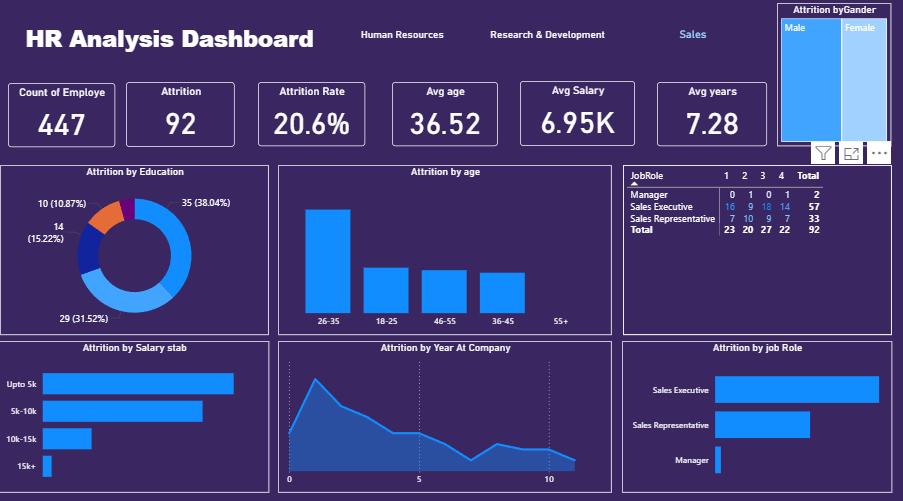

What the dashboard file says about the page in this screenshot:
{"tool":"powerbi","page":{"name":"Page 1","canvas":[1280,720],"ordinal":0},"visuals":[{"type":"card","title":"Count of Employe","fields":{"Values":["CountNonNull(HR_Analytics.EmpID)"]},"box":[12.8,121.9,151.7,90.7],"z":0},{"type":"card","title":"Avg age","fields":{"Values":["Avg(HR_Analytics.Age)"]},"box":[557,120.5,150.2,90.7],"z":1000},{"type":"card","title":"Attrition Rate ","fields":{"Values":["HR_Analytics.AttritionrRate"]},"box":[367.1,120.5,151.7,90.7],"z":2000},{"type":"card","title":"Attrition","fields":{"Values":["Sum(HR_Analytics.AttritionCount)"]},"box":[180,120.5,154.5,92.1],"z":3000},{"type":"card","title":"Avg years","fields":{"Values":["Avg(HR_Analytics.YearsAtCompany)"]},"box":[932.6,120.5,155.9,90.7],"z":4000},{"type":"card","title":"Avg Salary","fields":{"Values":["Avg(HR_Analytics.MonthlyIncome)"]},"box":[738.4,119.1,163,92.1],"z":5000},{"type":"donutChart","title":"Attrition by Education  ","fields":{"Category":["HR_Analytics.EducationField"],"Y":["Sum(HR_Analytics.AttritionCount)"]},"box":[1.4,238.1,381.3,240.9],"z":6000},{"type":"columnChart","title":"Attrition by age","fields":{"Category":["HR_Analytics.AgeGroup"],"Y":["Sum(HR_Analytics.AttritionCount)"]},"box":[395.4,238.1,473.4,240.9],"z":7000},{"type":"pivotTable","fields":{"Rows":["HR_Analytics.JobRole"],"Columns":["HR_Analytics.JobSatisfaction"],"Values":["Sum(HR_Analytics.AttritionCount)"]},"box":[884.4,238.1,381.3,240.9],"z":8000},{"type":"clusteredBarChart","title":"Attrition by Salary stab","fields":{"Category":["HR_Analytics.SalarySlab"],"Y":["Sum(HR_Analytics.AttritionCount)"]},"box":[0,487.6,382.7,215.4],"z":9000},{"type":"clusteredBarChart","title":"Attrition by job Role","fields":{"Category":["HR_Analytics.JobRole"],"Y":["Sum(HR_Analytics.AttritionCount)"]},"box":[883,487.6,382.7,215.4],"z":10000},{"type":"areaChart","title":"Attrition by Year At Company","fields":{"Category":["HR_Analytics.YearsAtCompany"],"Y":["Sum(HR_Analytics.AttritionCount)"]},"box":[395.4,487.6,473.4,215.4],"z":11000},{"type":"treemap","title":"Attrition byGander","fields":{"Group":["HR_Analytics.Gender"],"Values":["Sum(HR_Analytics.AttritionCount)"]},"box":[1102.7,8.5,161.6,202.7],"z":12000},{"type":"textbox","box":[1.4,31.2,480.5,60.9],"z":13000},{"type":"advancedSlicerVisual","fields":{"Values":["HR_Analytics.Department"]},"box":[467.7,15.6,620.8,76.5],"z":14000}]}

Visuals, with their boxes in screenshot pixels (x1, y1, x2, y2), scaled from the page's 1280x720 canvas onto the 903x501 screenshot:
"Count of Employe" card: (x1=9, y1=85, x2=116, y2=148)
"Avg age" card: (x1=393, y1=84, x2=499, y2=147)
"Attrition Rate " card: (x1=259, y1=84, x2=366, y2=147)
"Attrition" card: (x1=127, y1=84, x2=236, y2=148)
"Avg years" card: (x1=658, y1=84, x2=768, y2=147)
"Avg Salary" card: (x1=521, y1=83, x2=636, y2=147)
"Attrition by Education  " donutChart: (x1=1, y1=166, x2=270, y2=333)
"Attrition by age" columnChart: (x1=279, y1=166, x2=613, y2=333)
pivotTable - HR_Analytics.JobRole x HR_Analytics.JobSatisfaction: (x1=624, y1=166, x2=893, y2=333)
"Attrition by Salary stab" clusteredBarChart: (x1=0, y1=339, x2=270, y2=489)
"Attrition by job Role" clusteredBarChart: (x1=623, y1=339, x2=893, y2=489)
"Attrition by Year At Company" areaChart: (x1=279, y1=339, x2=613, y2=489)
"Attrition byGander" treemap: (x1=778, y1=6, x2=892, y2=147)
textbox: (x1=1, y1=22, x2=340, y2=64)
advancedSlicerVisual - HR_Analytics.Department: (x1=330, y1=11, x2=768, y2=64)
